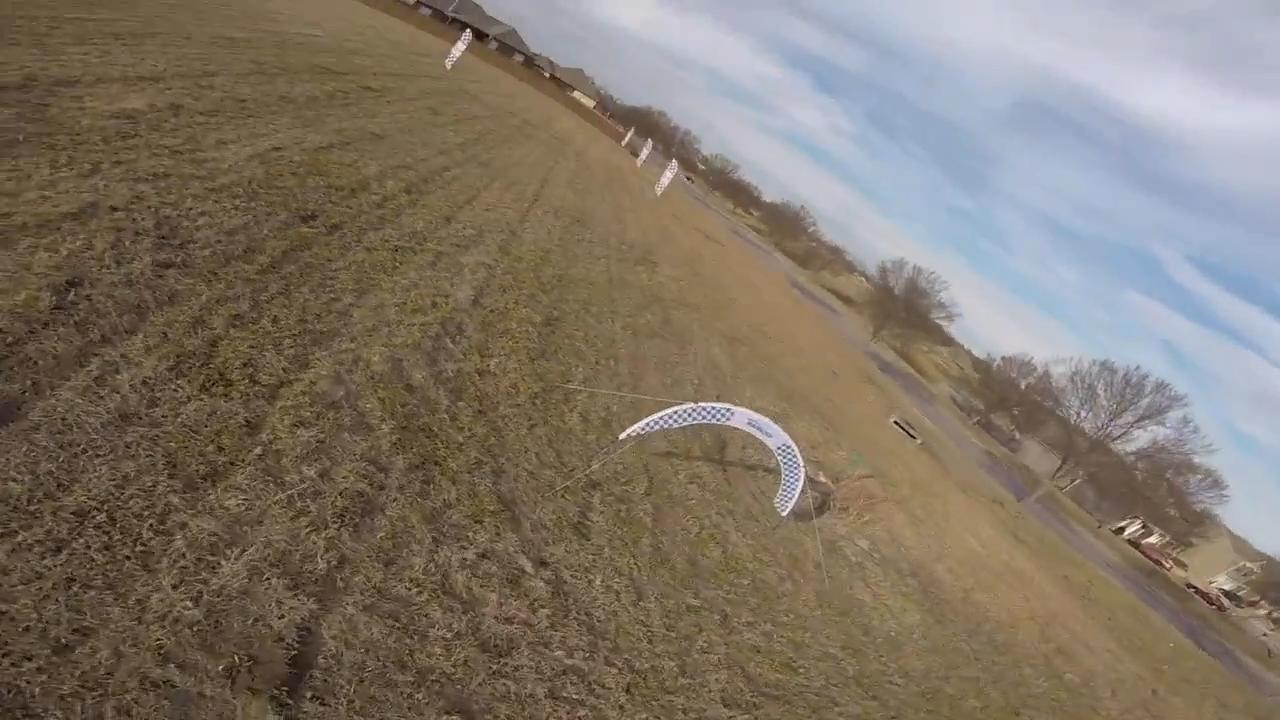gate: (611, 397, 810, 523)
